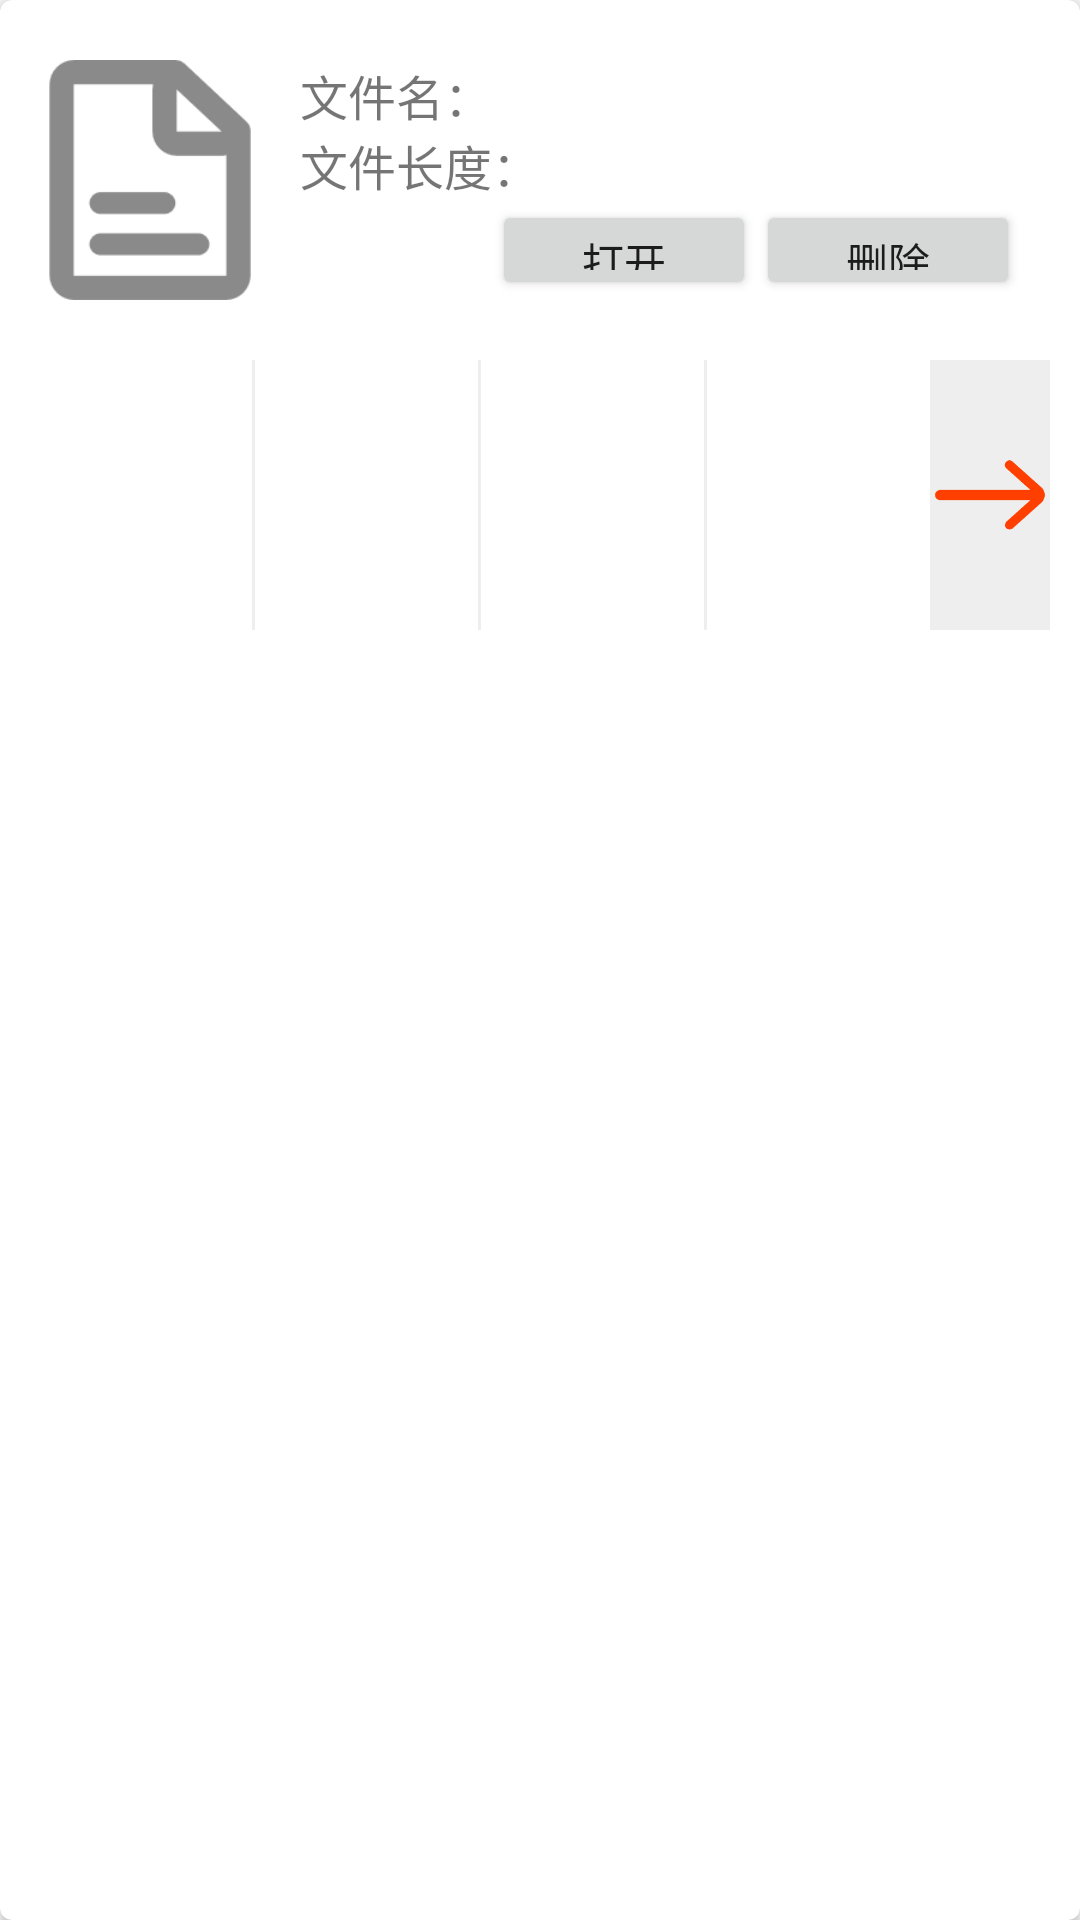

Where icons sit on this 1080 × 1920 app screen, as (x1, y1, x2, y2):
file: (49, 60, 251, 300)
next: (930, 360, 1050, 630)
